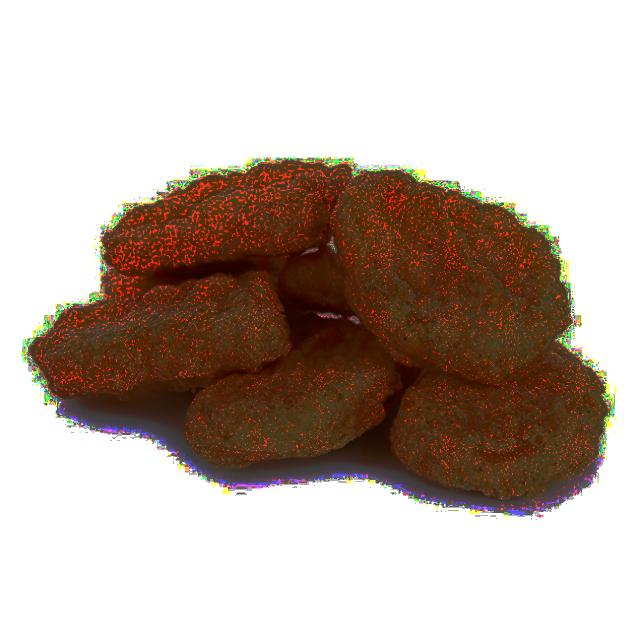chicken_nuggets: (330, 160, 583, 385), (380, 325, 630, 512), (19, 269, 284, 417), (182, 315, 400, 486), (102, 150, 352, 272)
